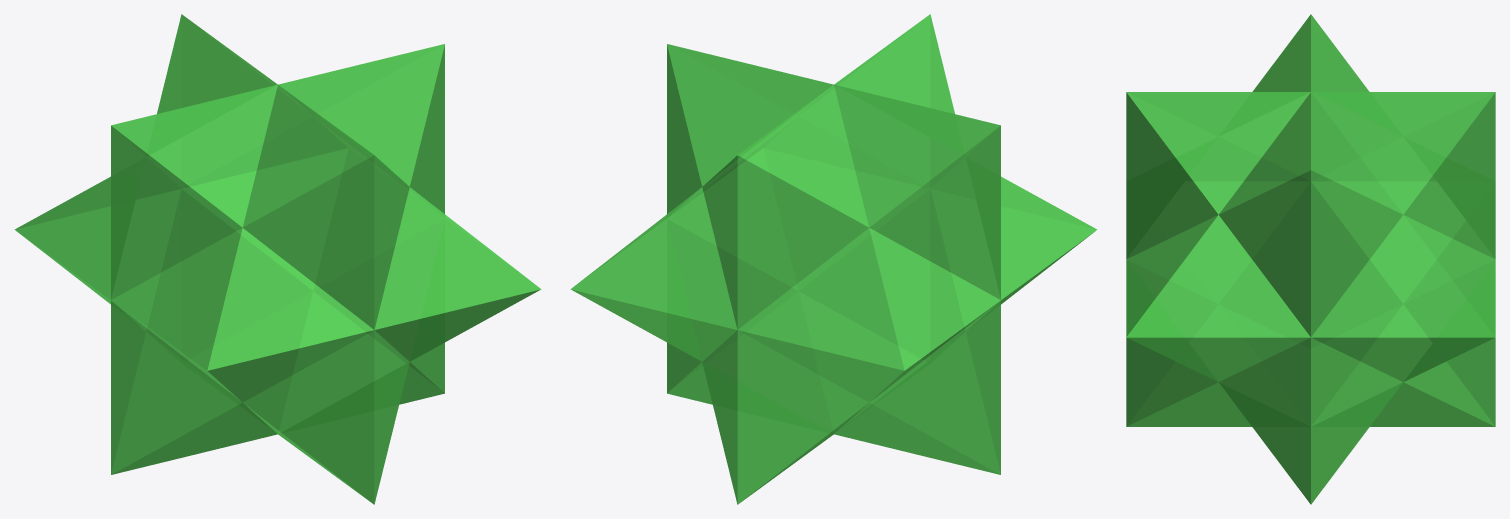
File: Escher.obj
3 views of the same model, side by side, from view 1: azimuth 30°, elevation 25°; view 2: azimuth 150°, elevation 25°; view 3: azimuth 270°, elevation 25° (orthographic). The views are drawn at different scales.
Size of the model in its own units: 2 by 2 by 2.
